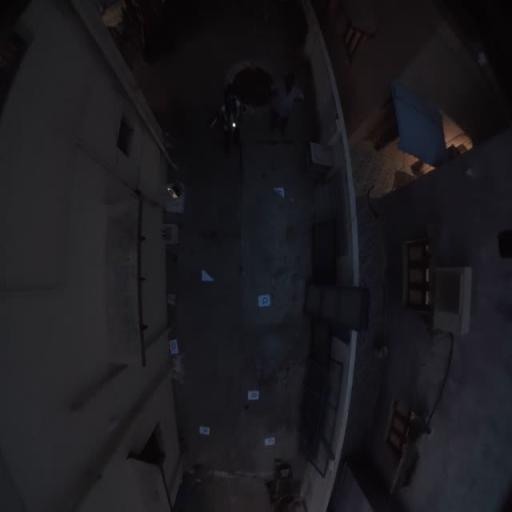C: (264, 436, 275, 446)
D: (169, 339, 178, 354), (247, 390, 259, 401)
G: (258, 294, 270, 308)
P: (200, 427, 210, 435)
